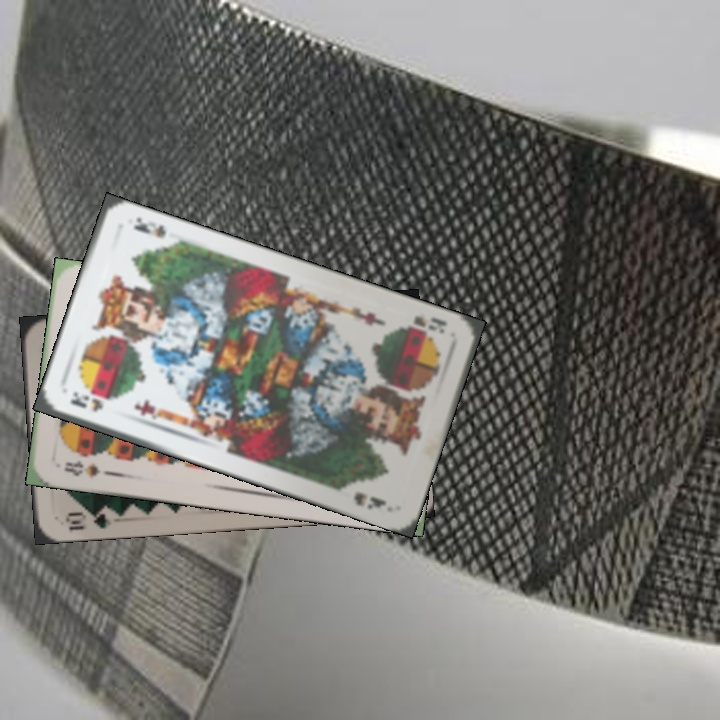G10: (61, 504, 117, 533)
S8: (60, 456, 103, 480)
SK: (394, 312, 450, 338), (66, 387, 106, 415)
